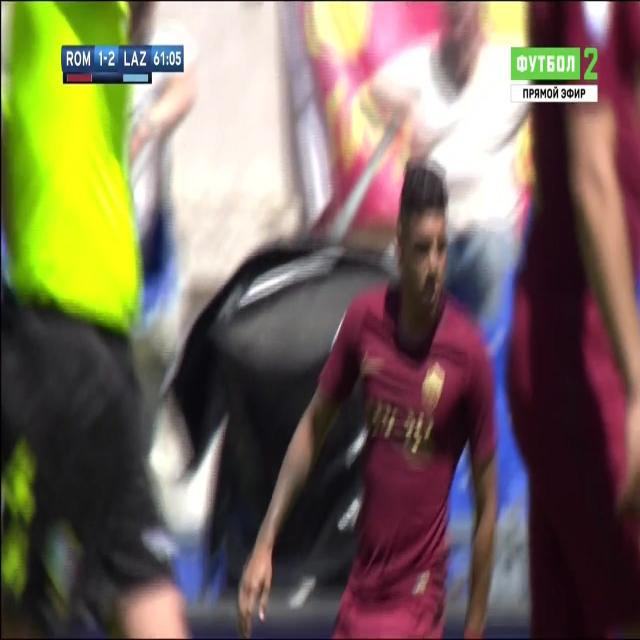Player: (242, 151, 504, 640)
